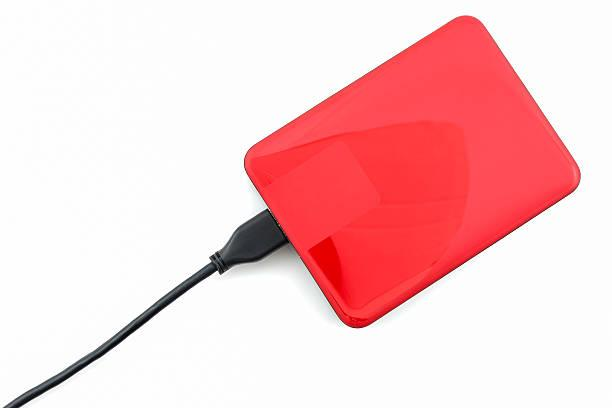HDD: (243, 15, 582, 331)
